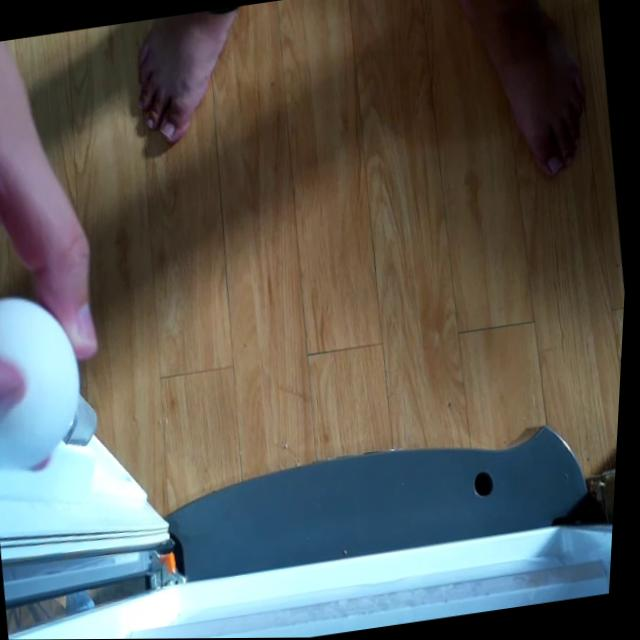egg: (0, 287, 100, 481)
